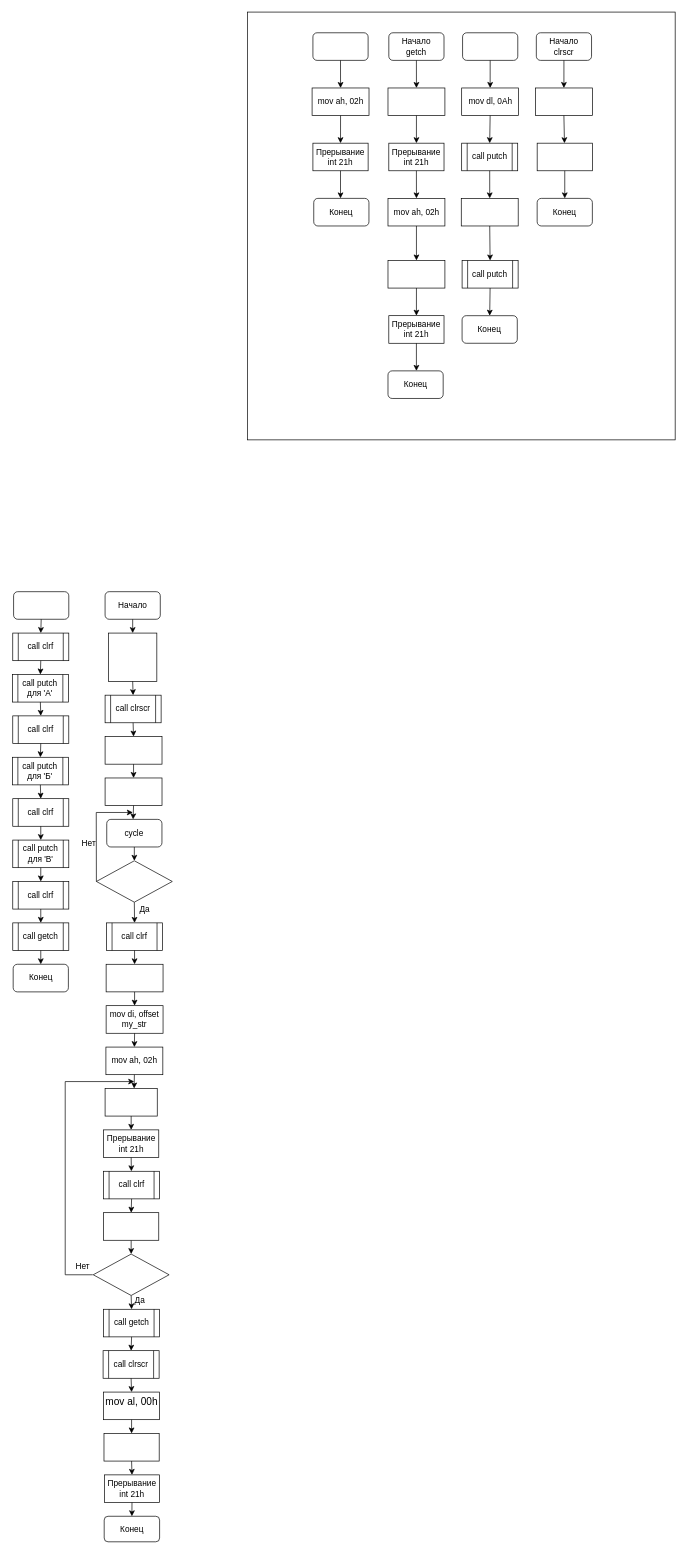
This 687x1554 diagram has some shape labels left out. The shapes that lost their labels are listed below. From the top down, each one's centre as x and y in pixels, then its label:
At pixel 340 46: "Начало putch".
At pixel 490 46: "Начало clrf".
At pixel 416 101: "mov ah, 08h".
At pixel 563 101: "mov ah, 00h".
At pixel 564 156: "Прерывание int 10h".
At pixel 489 212: "mov dl, 0Dh".
At pixel 416 274: "mov dl, al".
At pixel 41 605: "Начало cycle".
At pixel 132 656: "Загрузка регистров CS, DS".
At pixel 133 750: "mov ax, mydata".
At pixel 133 791: "mov ds, ax".
At pixel 134 881: "cmp al, '*'".
At pixel 134 978: "mov cx, 17".
At pixel 130 1102: "mov dl, [di]".
At pixel 131 1226: "inc di".
At pixel 131 1274: "cx = 0".
At pixel 131 1447: "mov ah, 4ch".
